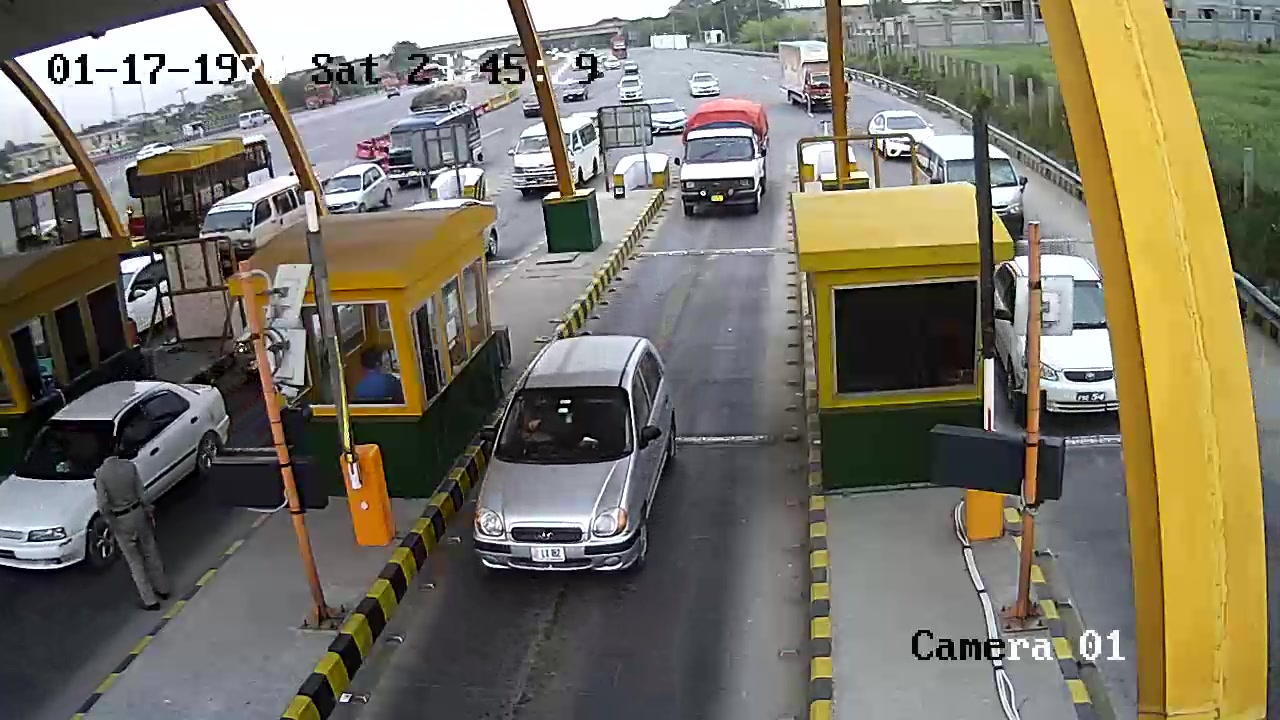F1: (475, 316, 687, 579)
